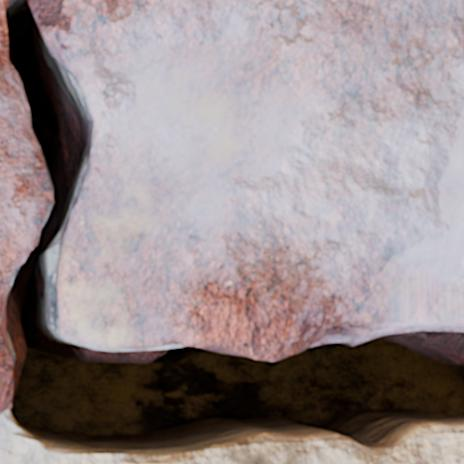broken_brick: (46, 0, 463, 359), (0, 0, 52, 325), (0, 332, 12, 414)
crack: (0, 0, 463, 462)
